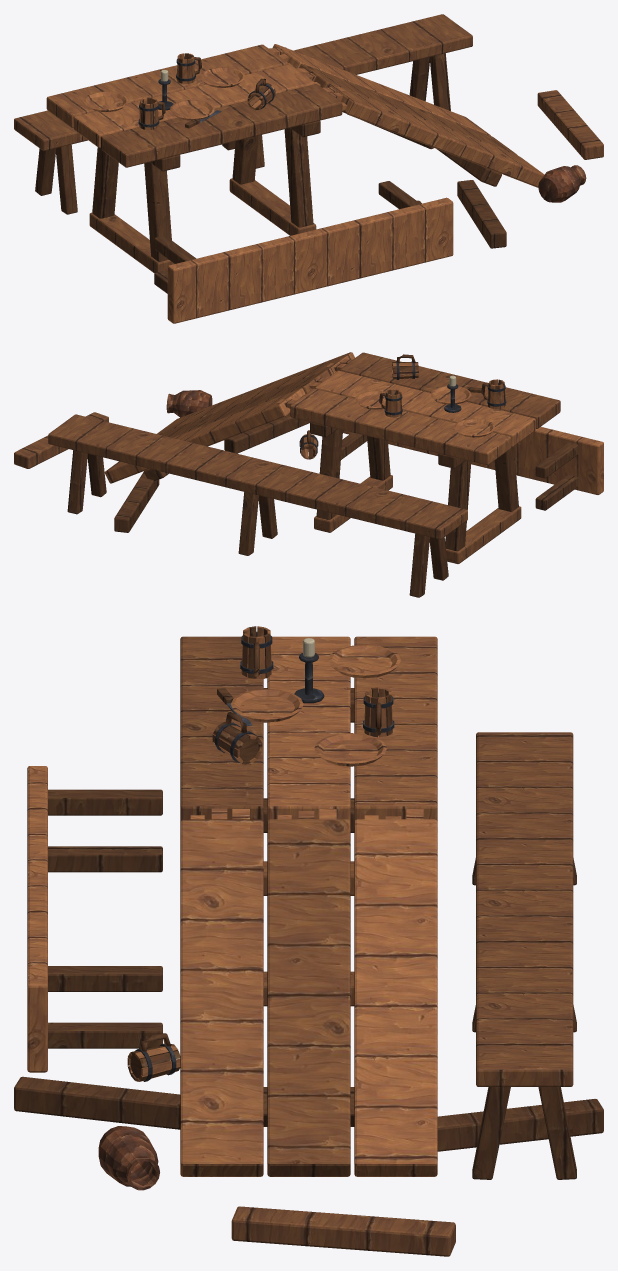
File: rb_feast_table_broken.glb
The picture shows the model from 3 angles, top to bottom: view 1: azimuth 30°, elevation 25°; view 2: azimuth 150°, elevation 25°; view 3: azimuth 270°, elevation 25°; orthographic projection. The views are drawn at different scales.
Visible parts, largest first — view 1: model; view 2: model; view 3: model.
Boxes of the visible parts, <box> form: model: <box>14,14,603,323</box>; model: <box>14,352,603,597</box>; model: <box>14,626,603,1256</box>.
Bounding box in the file's own units: 2.75 × 0.872 × 1.7.
Materials: 8 (7 with a texture image).
